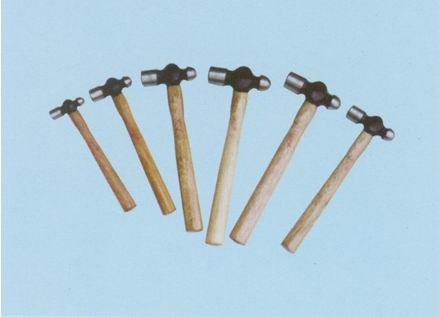hammer: (226, 69, 338, 248), (279, 107, 396, 253), (140, 63, 214, 231), (88, 76, 175, 214), (208, 60, 268, 242), (50, 94, 135, 210)
